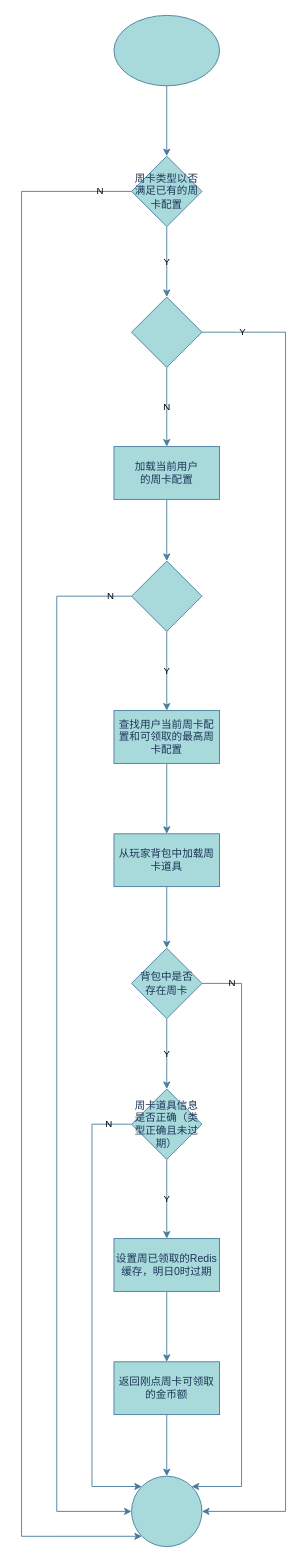
Image size: 308x1562. Some labels were removed from this diagram. Each missing label, with the centre of its shape:
"End" goes at point 166,1511.
"Start" goes at point 166,50.
"是否已领取 周卡奖励（Redis 缓存）" goes at point 166,331.
"用户是否有 周卡配置" goes at point 166,595.
